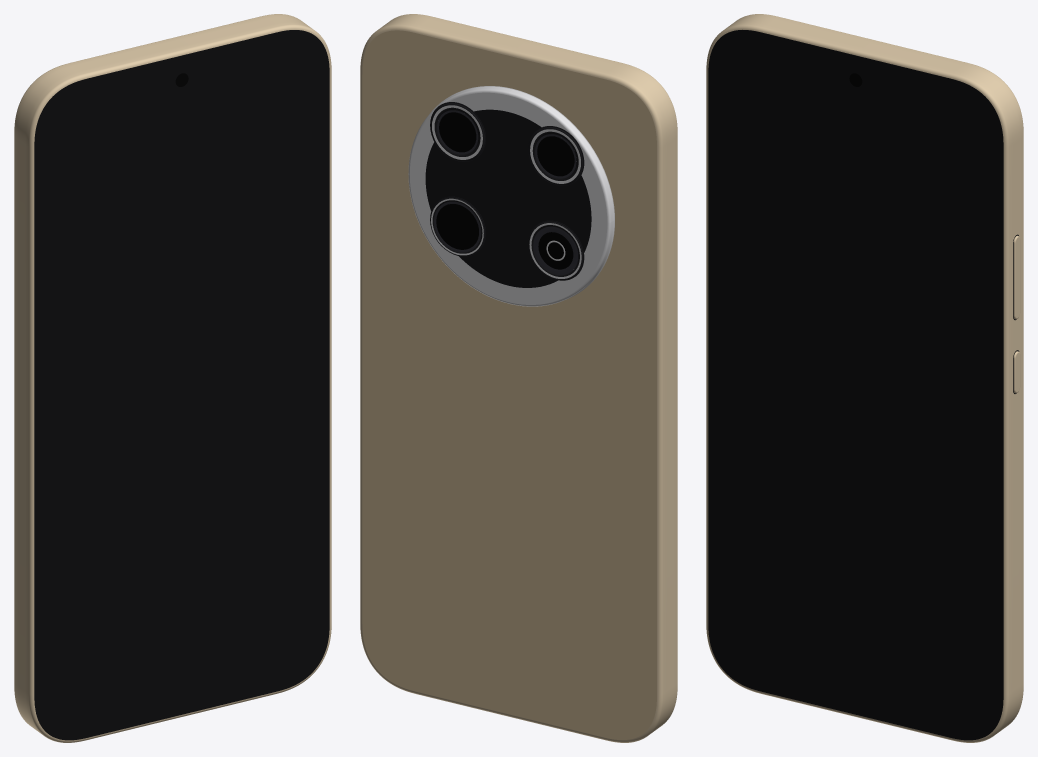
File: honor-x9e-pro.glb
3 renders of one model, left to right at view 1: azimuth 30°, elevation 25°; view 2: azimuth 150°, elevation 25°; view 3: azimuth 330°, elevation 25°, orthographic.
Visible parts, largest first — view 1: body; view 2: body, camera; view 3: body, buttons.
Part boxes in pixels (left/top/right/bottom): body: left=14, top=14, right=331, bottom=742; body: left=360, top=14, right=677, bottom=742; camera: left=408, top=86, right=614, bottom=306; body: left=706, top=14, right=1023, bottom=742; buttons: left=1013, top=234, right=1020, bottom=393.
Size of the model in its own units: 77.43 by 162 by 10.4.
